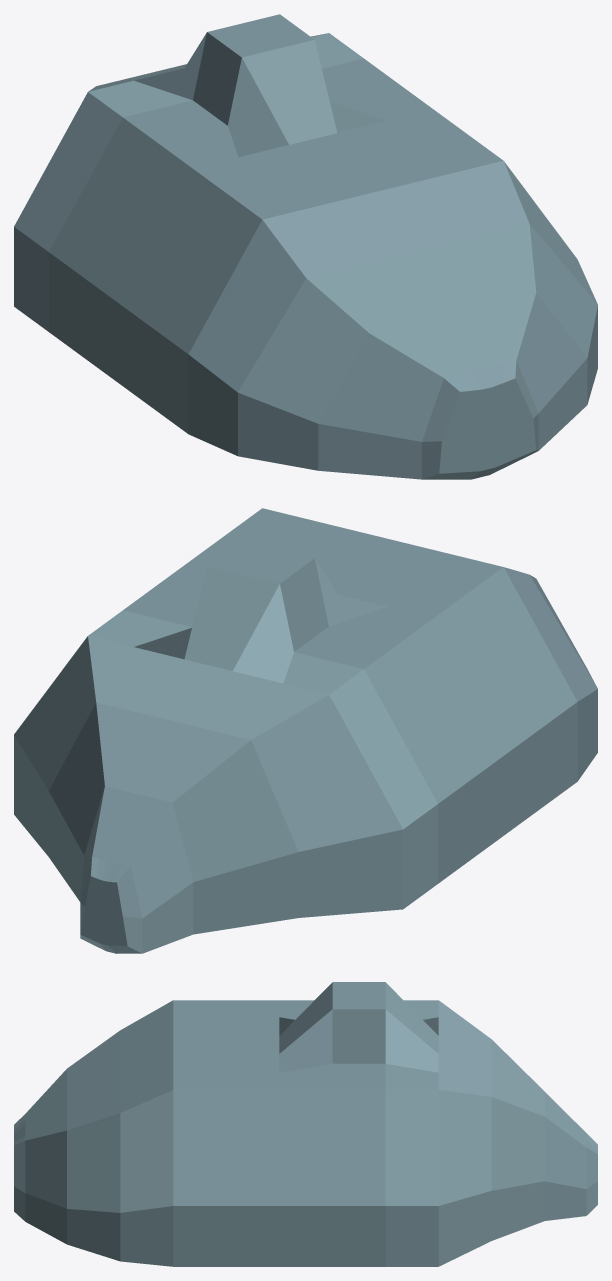
File: ballard_scout_a.glb
3 views of the same model, one above another, from view 1: azimuth 30°, elevation 25°; view 2: azimuth 150°, elevation 25°; view 3: azimuth 270°, elevation 25° (orthographic). The views are drawn at different scales.
Visible parts, largest first — view 1: ballard_scout_a; view 2: ballard_scout_a; view 3: ballard_scout_a.
Boxes of the visible parts, x1,y1,x2,y2 form: ballard_scout_a: [14, 14, 597, 479]; ballard_scout_a: [14, 508, 597, 953]; ballard_scout_a: [14, 982, 597, 1266].
Size of the model in its own units: 2.4 by 1.66 by 4.1.
